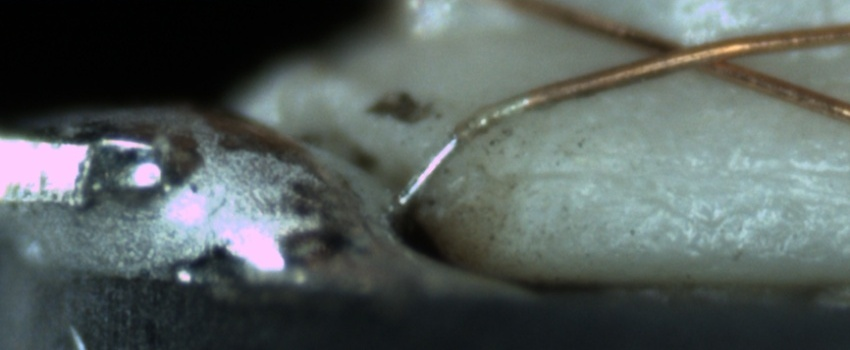CL: (619, 30, 768, 82)
DL: (517, 143, 850, 207)
TS: (399, 94, 529, 206)
TTCW: (386, 80, 552, 209)
